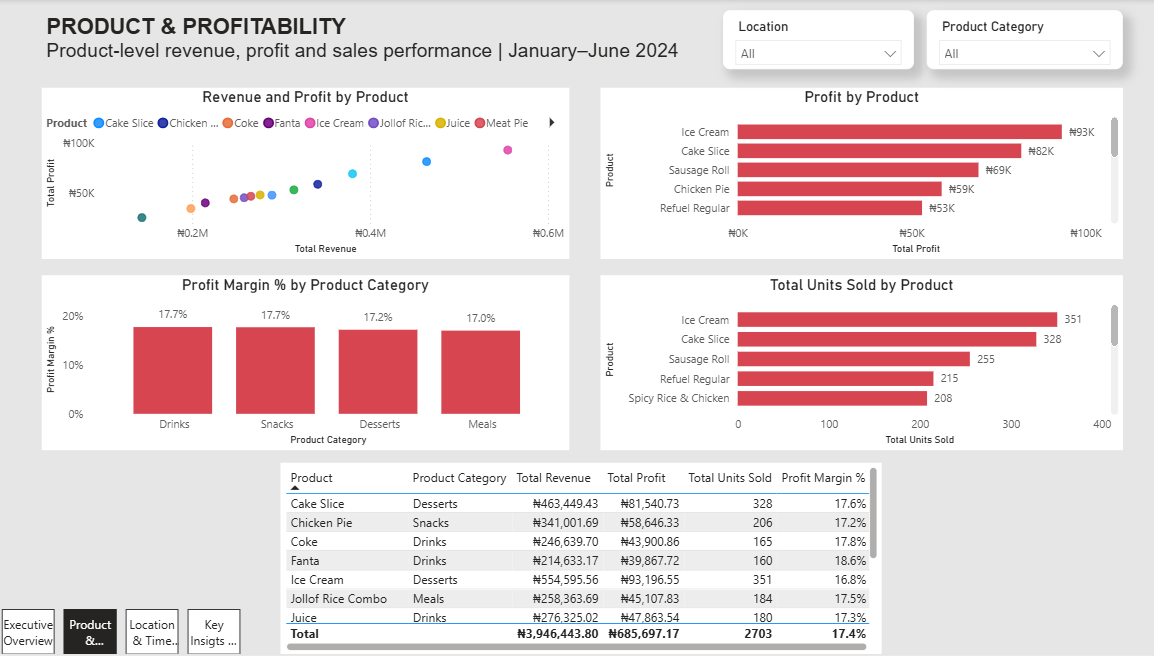

This screenshot's page, from the dashboard's own definition file:
{"tool":"powerbi","page":{"name":"Product & Profitability","canvas":[1280,720],"ordinal":1},"visuals":[{"type":"scatterChart","title":"Revenue and Profit by Product","fields":{"X":["SalesData.Total Revenue"],"Y":["SalesData.Total Profit"],"Series":["SalesData.Product"]},"box":[48,97.4,579.1,188],"z":0},{"type":"barChart","title":"Profit by Product","fields":{"Category":["SalesData.Product"],"Y":["SalesData.Total Profit"]},"box":[661.4,97.4,573.6,188],"z":1000},{"type":"clusteredColumnChart","fields":{"Category":["SalesData.Product Category"],"Y":["SalesData.Profit Margin %"]},"box":[48,303.3,579.1,192.1],"z":2000},{"type":"barChart","fields":{"Category":["SalesData.Product"],"Y":["SalesData.Total Units Sold"]},"box":[661.4,303.3,573.6,192.1],"z":3000},{"type":"tableEx","fields":{"Values":["SalesData.Product","SalesData.Product Category","SalesData.Total Revenue","SalesData.Total Profit","SalesData.Total Units Sold","SalesData.Profit Margin %"]},"box":[310.1,509.1,660,211.3],"z":4000},{"type":"textbox","box":[48,12.3,708.1,71.4],"z":5000},{"type":"slicer","fields":{"Values":["SalesData.Location"]},"box":[795.9,12.3,209.9,64.5],"z":6000},{"type":"slicer","fields":{"Values":["SalesData.Product Category"]},"box":[1019.6,12.3,215.4,64.5],"z":7000},{"type":"pageNavigator","box":[4.1,669.2,262.1,50.8],"z":8000}]}

Visuals, with their boxes in screenshot pixels (x1, y1, x2, y2), scaled from the page's 1280x720 canvas onto the 1154x656 screenshot:
"Revenue and Profit by Product" scatterChart: region(43, 89, 565, 260)
"Profit by Product" barChart: region(596, 89, 1113, 260)
clusteredColumnChart - SalesData.Product Category x SalesData.Profit Margin %: region(43, 276, 565, 451)
barChart - SalesData.Product x SalesData.Total Units Sold: region(596, 276, 1113, 451)
tableEx - SalesData.Product x SalesData.Product Category: region(280, 464, 875, 655)
textbox: region(43, 11, 682, 76)
slicer - SalesData.Location: region(718, 11, 907, 70)
slicer - SalesData.Product Category: region(919, 11, 1113, 70)
pageNavigator: region(4, 610, 240, 655)
